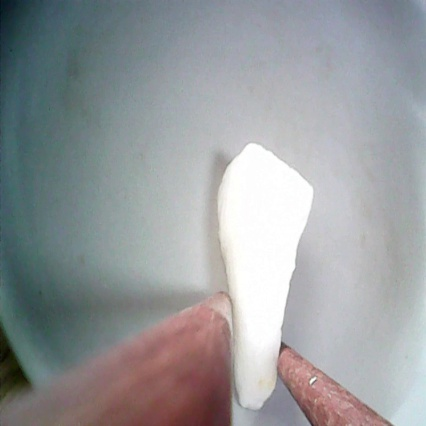white_chinese-yam: (208, 140, 319, 417)
